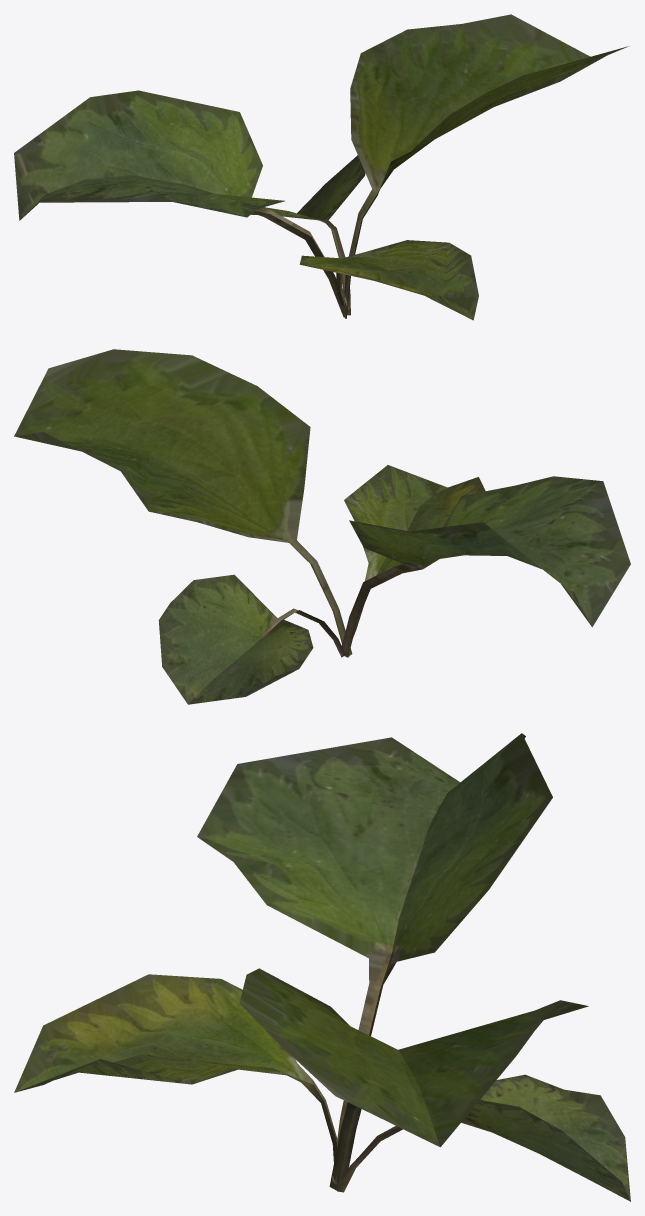
The model's file is small_plant.glb.
The picture shows the model from 3 angles, top to bottom: view 1: azimuth 30°, elevation 25°; view 2: azimuth 150°, elevation 25°; view 3: azimuth 270°, elevation 25°; orthographic projection. The views are drawn at different scales.
Parts seen in each view (by area): view 1: nettle_plant_small_b_LOD2; view 2: nettle_plant_small_b_LOD2; view 3: nettle_plant_small_b_LOD2.
Boxes of the visible parts, x1,y1,x2,y2 form: nettle_plant_small_b_LOD2: (14, 14, 629, 320); nettle_plant_small_b_LOD2: (14, 349, 630, 704); nettle_plant_small_b_LOD2: (14, 733, 630, 1201).
Bounding box in the file's own units: 0.2954 × 0.1096 × 0.1902.
1 material, 1 textured.
